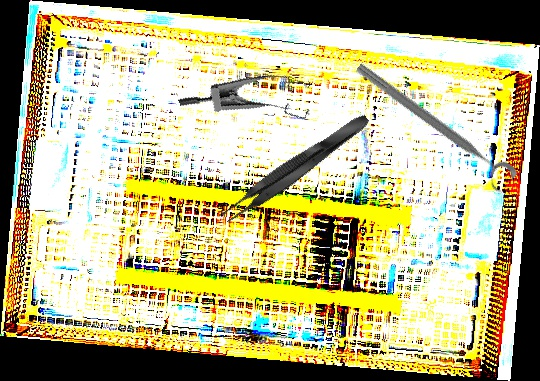Fixation Ring: (346, 58, 519, 197)
Speculum: (177, 52, 322, 159)
Tissue Forceps: (217, 108, 375, 229)
